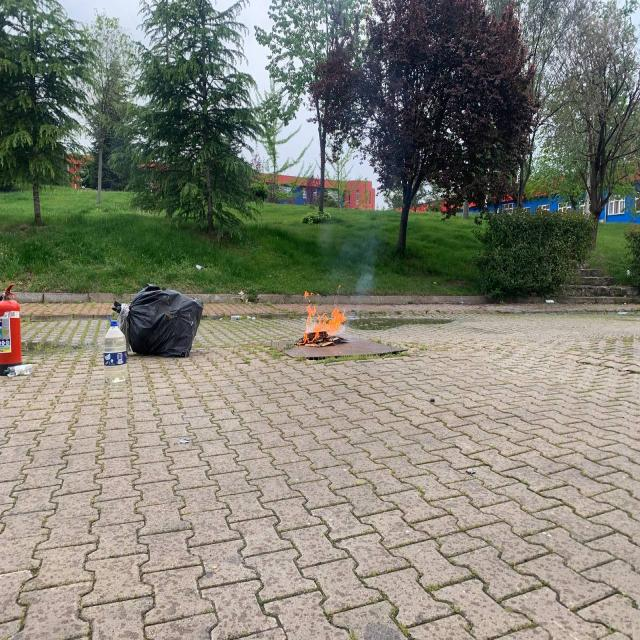fire: (286, 284, 346, 345)
